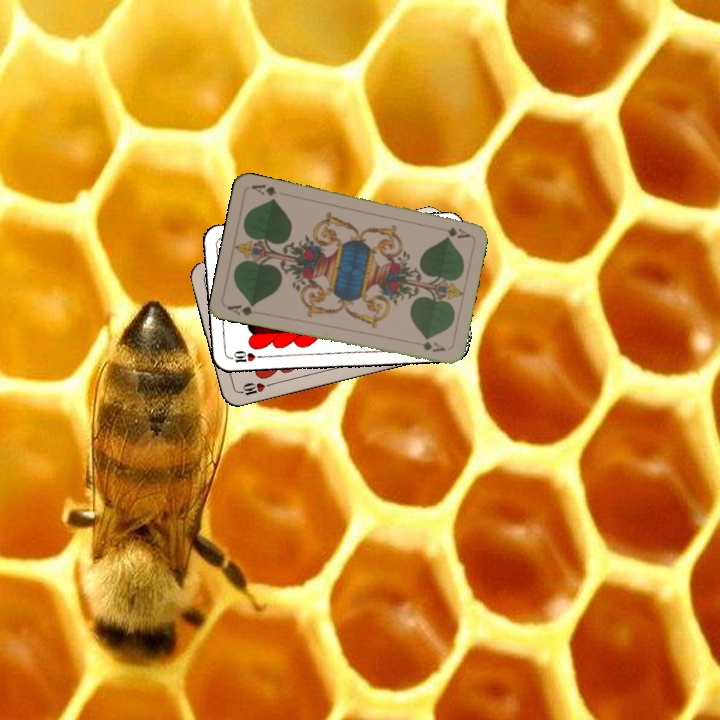GA: (223, 300, 264, 318), (443, 223, 472, 240)
H10: (234, 378, 274, 399), (225, 347, 265, 365)
